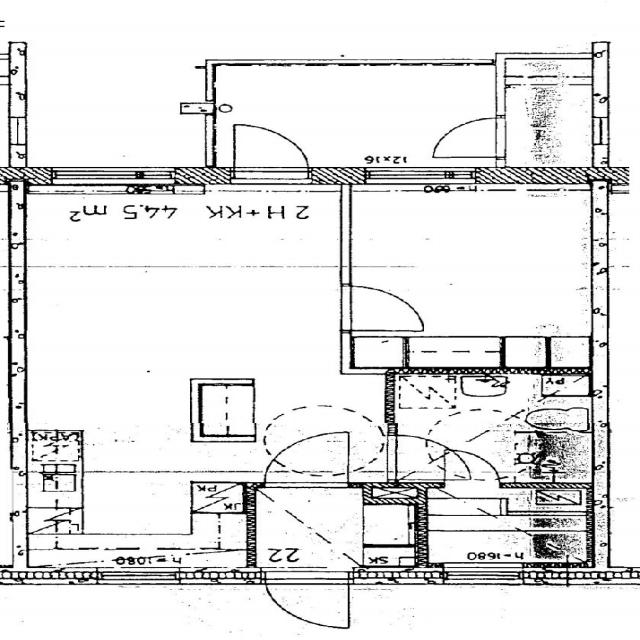door: (265, 566, 349, 633), (264, 432, 349, 488), (233, 123, 308, 184), (385, 435, 470, 479), (341, 286, 425, 330), (430, 118, 505, 157), (444, 449, 499, 488)
